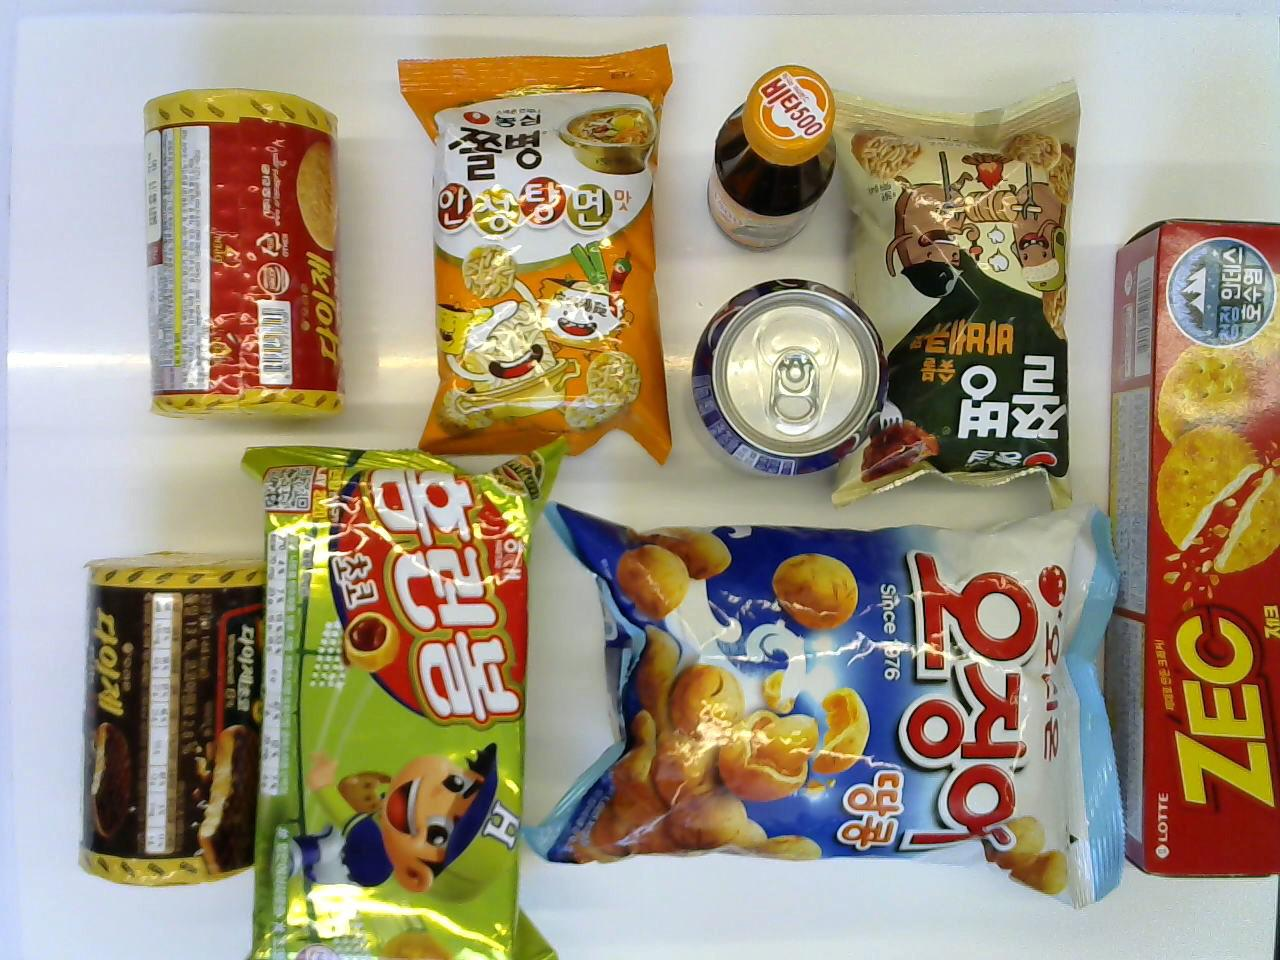diget_choco: (72, 551, 295, 888)
diget_ori: (135, 88, 350, 428)
homerunball: (242, 440, 556, 960)
jjolbyung_noodle: (396, 37, 672, 474)
jjolbyung_ori: (828, 72, 1087, 508)
squid_peanut: (530, 500, 1130, 910)
vita500: (705, 62, 840, 251)
welchs: (687, 274, 890, 478)
zec: (1112, 215, 1280, 887)
